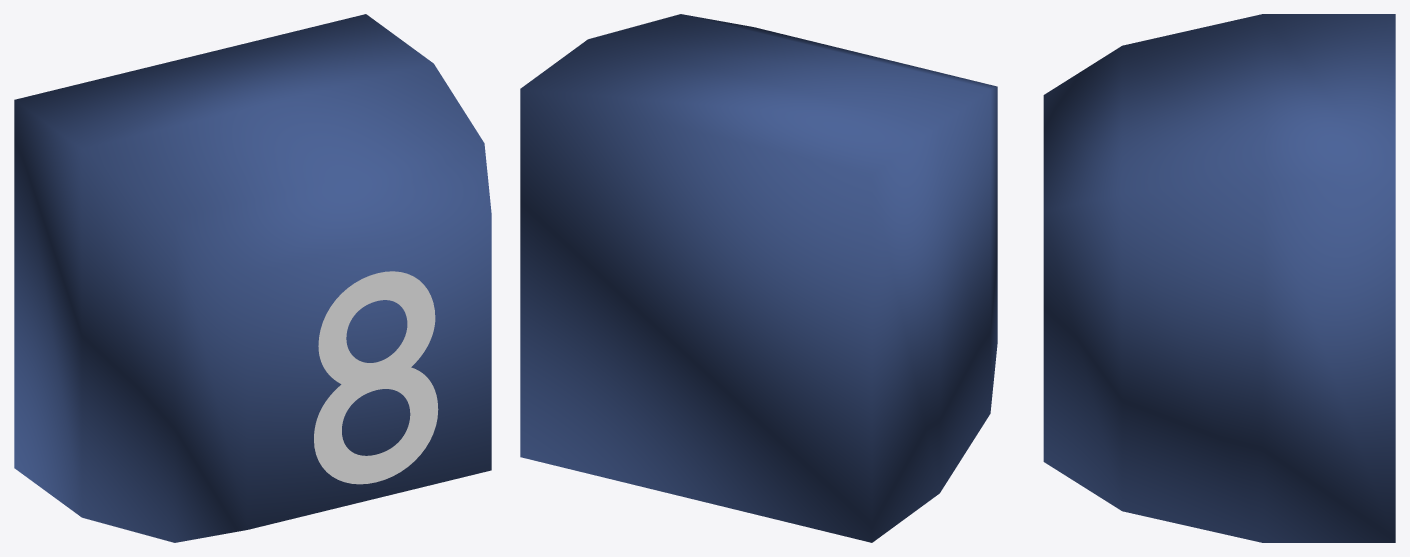
The model's file is lockbutton8.glb.
3 renders of one model, left to right at view 1: azimuth 30°, elevation 25°; view 2: azimuth 150°, elevation 25°; view 3: azimuth 270°, elevation 25°, orthographic. The views are drawn at different scales.
Parts seen in each view (by area): view 1: Text.007; view 2: Text.007; view 3: Text.007.
Part boxes in pixels (x1,y1,x2,y2): Text.007: (14,14,491,542); Text.007: (520,14,997,542); Text.007: (1043,14,1395,542).
Bounding box in the file's own units: 0.0488 × 0.0488 × 0.0452.
